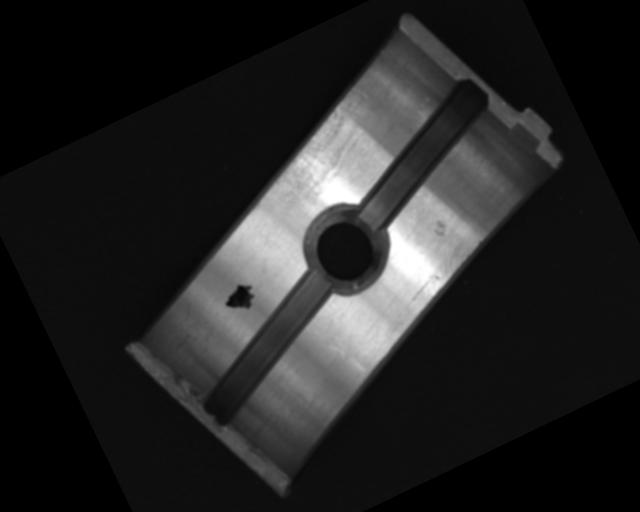blot: (218, 277, 262, 318)
bruise: (427, 217, 451, 241)
gap: (171, 266, 362, 428), (327, 74, 516, 231)
hole: (294, 192, 398, 303)
nick: (316, 326, 366, 385)
scratch: (235, 83, 397, 223)
